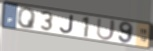1: (81, 16, 91, 39)
3: (39, 11, 54, 32)
9: (118, 21, 135, 45)
J: (58, 14, 75, 35)
Q: (17, 7, 38, 31)
U: (96, 17, 117, 42)
